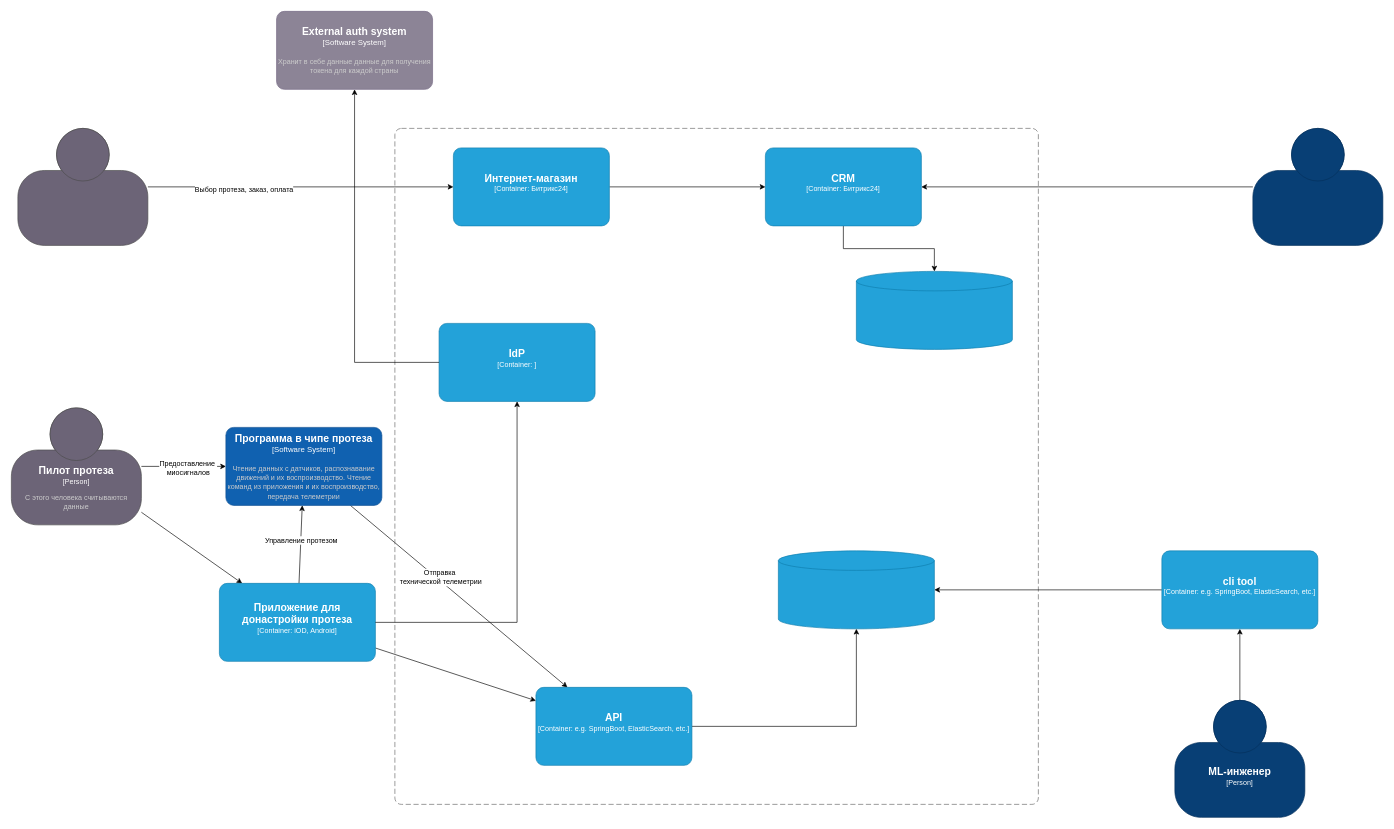
The diagram is 1394 pixels wide and 829 high, and some of its shapes have lost their labels. Each missing label, with the box of its shape:
BionicPRO [Software System]: (394, 128, 1038, 804)
CRM DB [Container: e.g. Oracle Database 12]: (856, 271, 1012, 349)
База данных [Container: PostgreSQL]: (778, 550, 934, 629)
Оператор производства [Person]: (1252, 128, 1383, 245)
Покупатель протеза [Person]: (17, 128, 148, 245)
